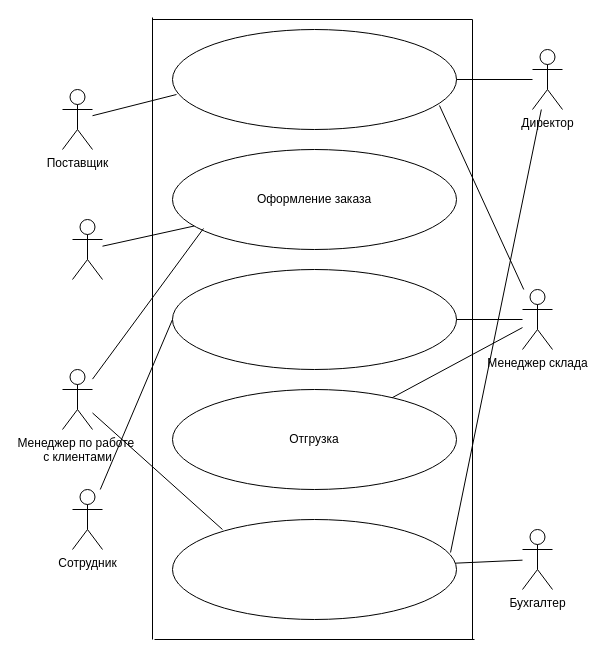
The diagram is 604 pixels wide and 658 high, and some of its shapes have lost their labels. Here are the shapes that lost their labels. From the top down, the box of each, then its label:
(172, 28, 456, 130): Приемка товаров
(72, 218, 102, 280): Клиент
(172, 268, 456, 370): Обработка и комплектация
(172, 518, 456, 620): Подтверждение заказа
